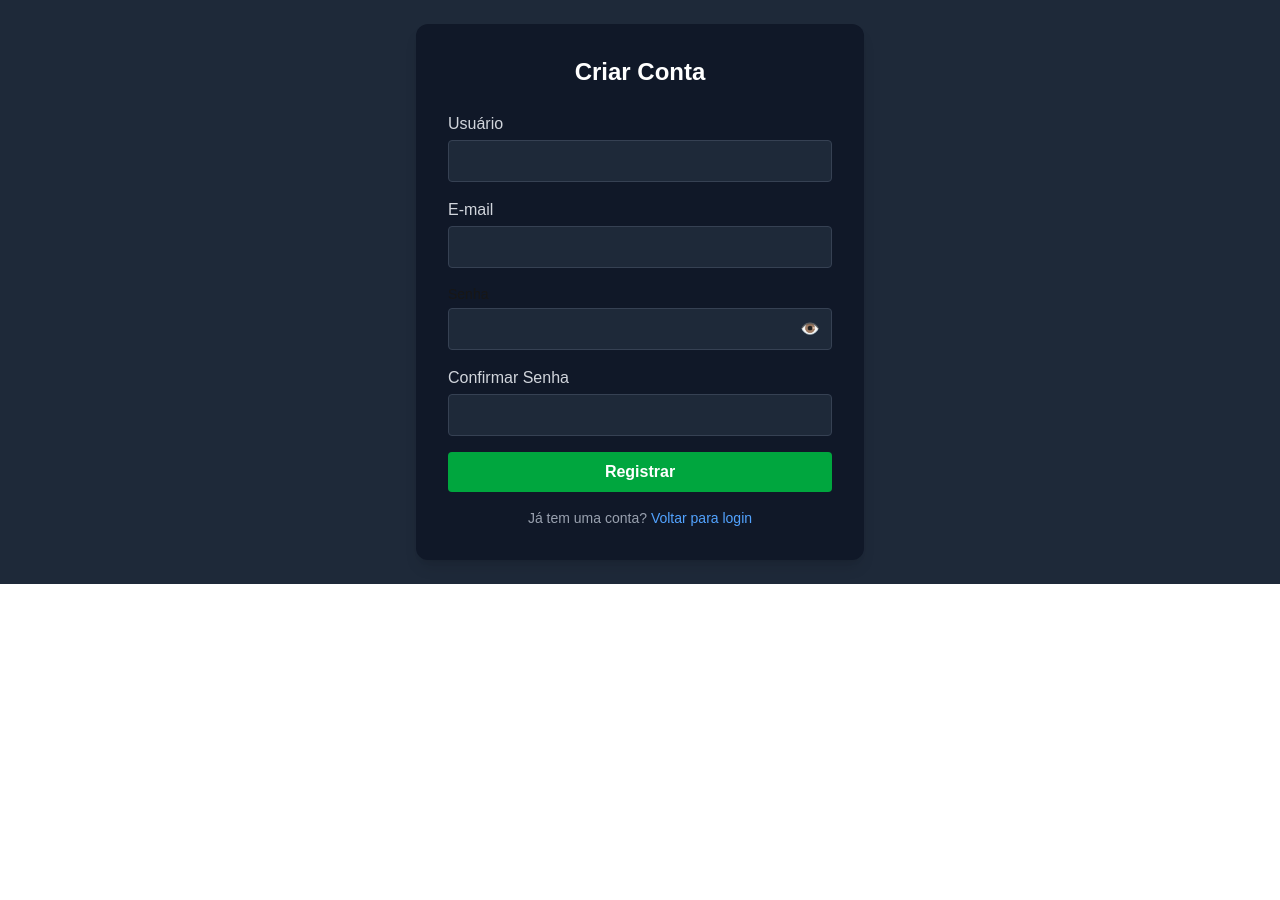
Test: RegisterForm › exibe erro inesperado quando API falha sem detalhes
Type "john" into the field labelled "Usuário".
click(640, 161); type("john")  # box [448,140,832,182]
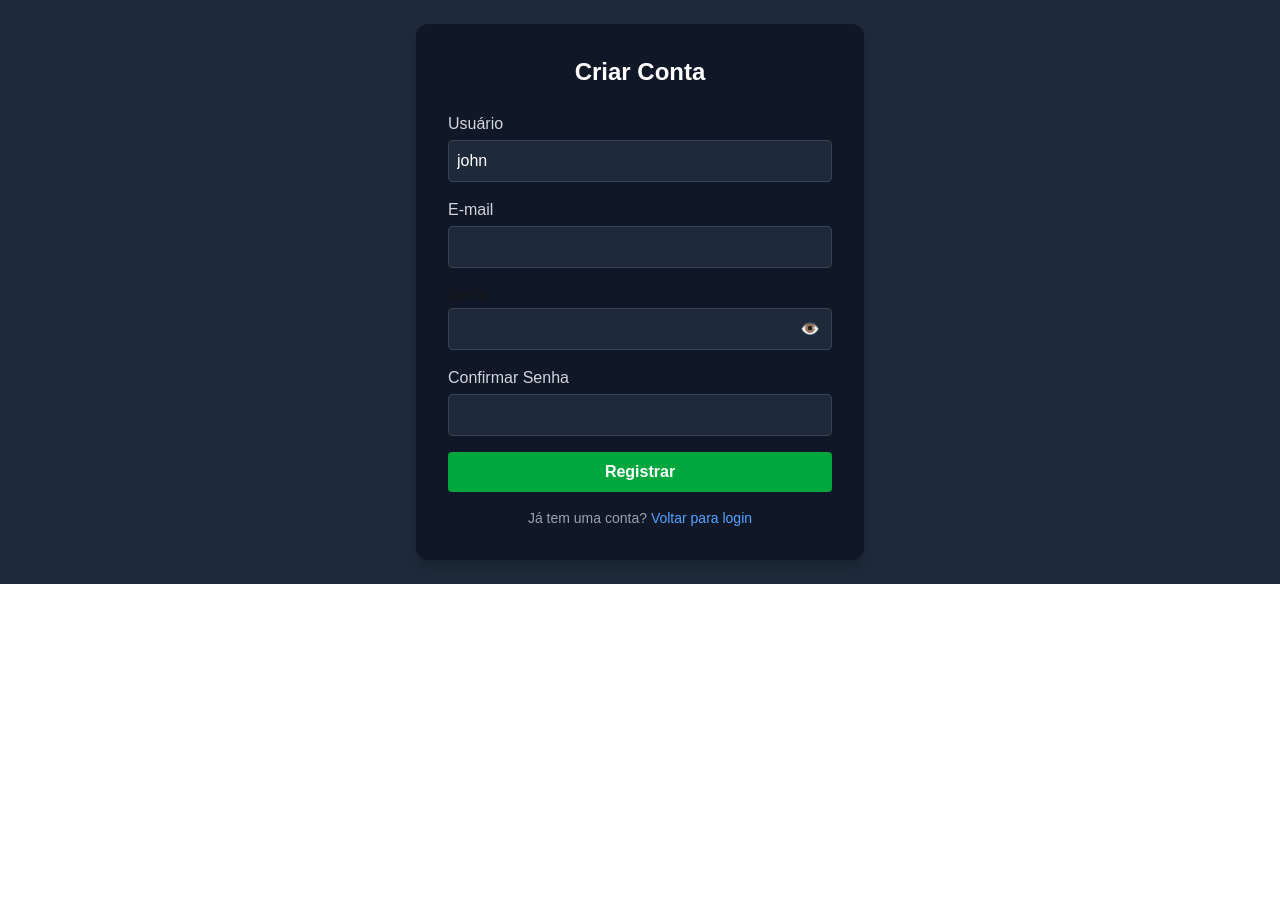
Type "john@test.com" into the field labelled "E-mail".
click(640, 247); type("john@test.com")  # box [448,226,832,268]
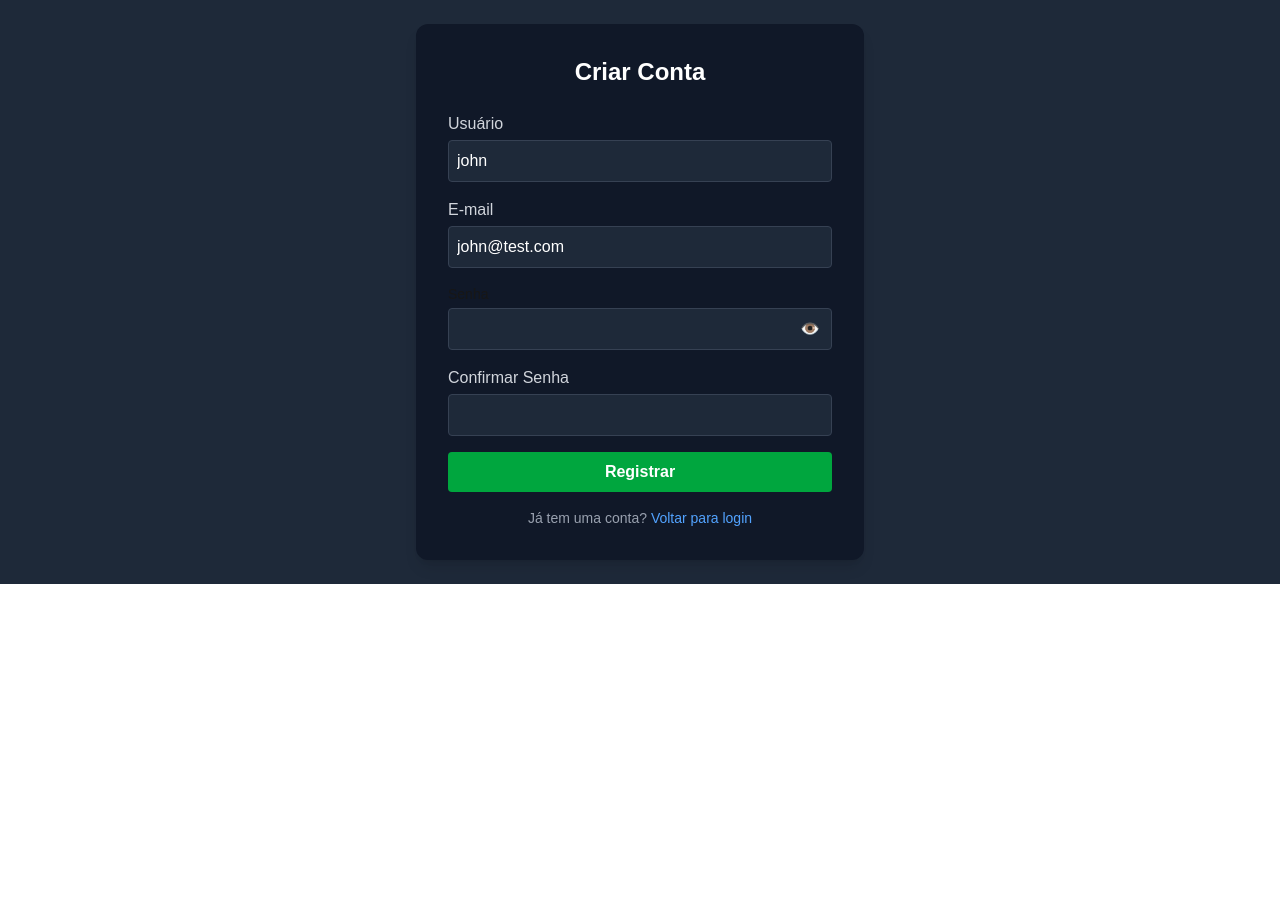
Type "123456" into the password field labelled "Senha".
click(640, 329); type("123456")  # box [448,308,832,350]
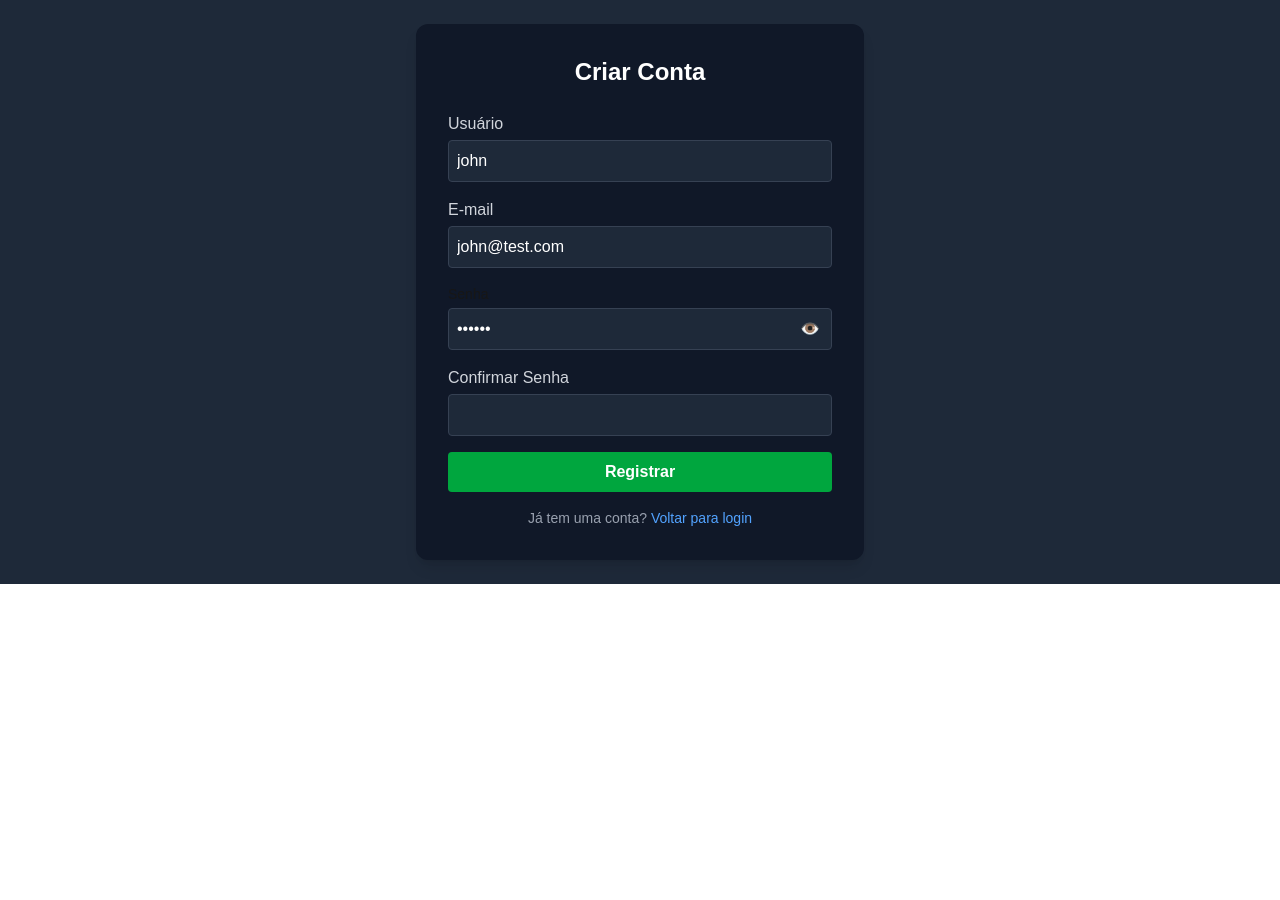
Type "123456" into the password field labelled "Confirmar Senha".
click(640, 415); type("123456")  # box [448,394,832,436]
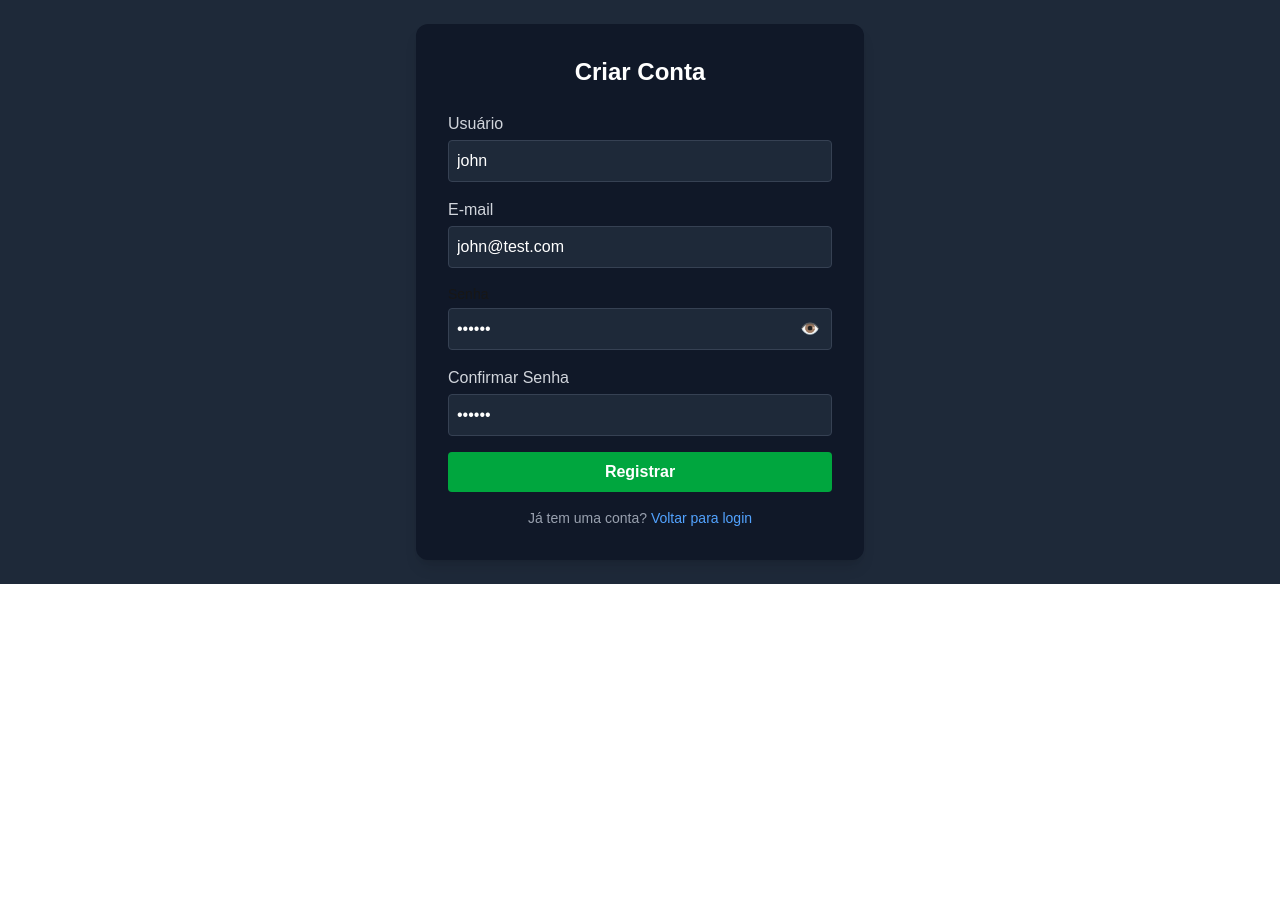
Click the button "Registrar".
click(640, 472)  # box [448,452,832,492]
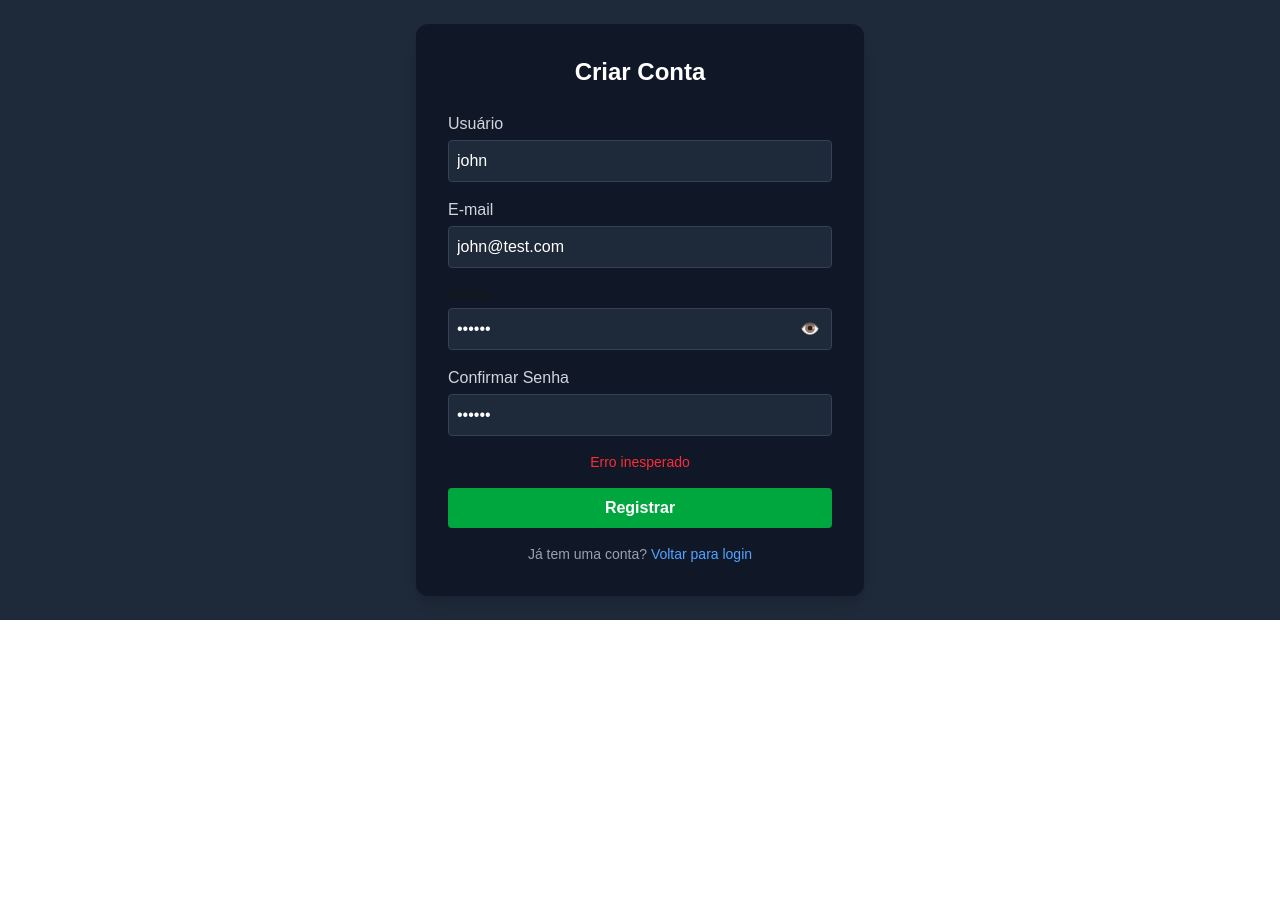
Expected: the text "Erro inesperado" is shown, [590,454,690,470]
